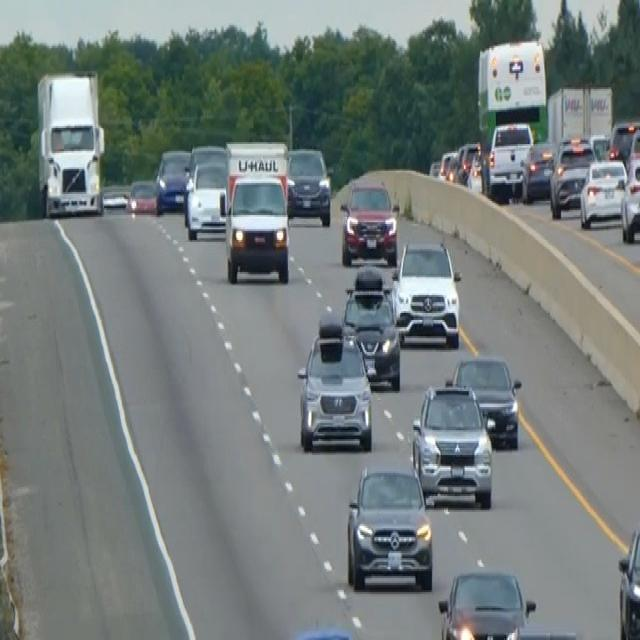car: (345, 460, 433, 592), (296, 316, 373, 452), (411, 381, 493, 508), (390, 236, 462, 348), (341, 263, 401, 389), (446, 352, 522, 450), (437, 566, 536, 638), (339, 178, 399, 266), (548, 135, 597, 217), (285, 144, 332, 226), (486, 119, 533, 199), (183, 156, 227, 238), (579, 156, 627, 228), (616, 523, 639, 638), (154, 146, 191, 213), (520, 138, 556, 202), (620, 156, 639, 242), (497, 620, 580, 638), (608, 118, 639, 166), (268, 624, 369, 638), (453, 139, 481, 185), (124, 176, 157, 215), (466, 148, 486, 194)
lorry: (34, 68, 107, 218)
minivan: (223, 172, 290, 284)
